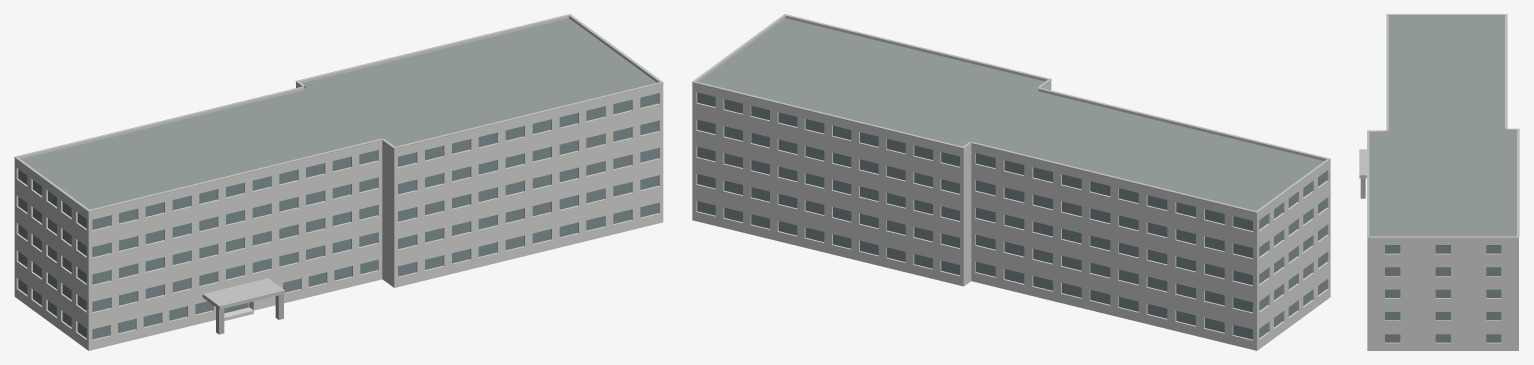
3 views of the same model, side by side, from view 1: azimuth 30°, elevation 25°; view 2: azimuth 150°, elevation 25°; view 3: azimuth 270°, elevation 25° (orthographic). The views are drawn at different scales.
Visible parts, largest first — view 1: b115951816__wall, b115951816__roof, b115951816__glass, b115951816__trim, b115951816__parapet, b115951816__frame; view 2: b115951816__wall, b115951816__roof, b115951816__glass, b115951816__parapet, b115951816__trim, b115951816__frame; view 3: b115951816__roof, b115951816__wall, b115951816__glass, b115951816__trim, b115951816__parapet.
Part boxes in pixels (<box>): b115951816__wall: <box>14,84,663,350</box>; b115951816__roof: <box>17,18,662,350</box>; b115951816__glass: <box>18,93,658,339</box>; b115951816__trim: <box>14,14,663,309</box>; b115951816__parapet: <box>14,15,663,213</box>; b115951816__frame: <box>23,94,652,337</box>; b115951816__wall: <box>692,82,1330,350</box>; b115951816__roof: <box>693,18,1327,350</box>; b115951816__glass: <box>697,92,1326,339</box>; b115951816__parapet: <box>692,15,1330,214</box>; b115951816__trim: <box>692,14,1330,213</box>; b115951816__frame: <box>703,94,1321,337</box>; b115951816__roof: <box>1369,17,1516,236</box>; b115951816__wall: <box>1367,239,1518,350</box>; b115951816__glass: <box>1385,245,1501,342</box>; b115951816__trim: <box>1359,14,1519,237</box>; b115951816__parapet: <box>1367,15,1518,239</box>.
Size of the model in its own units: 77.49 by 18.75 by 23.46.
